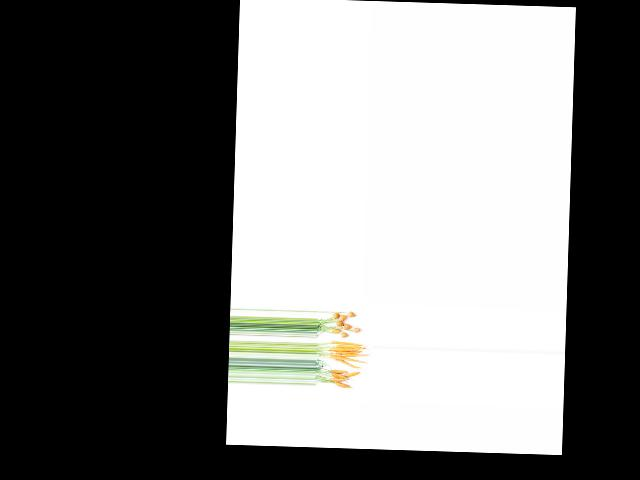carrot: (348, 311, 358, 319)
